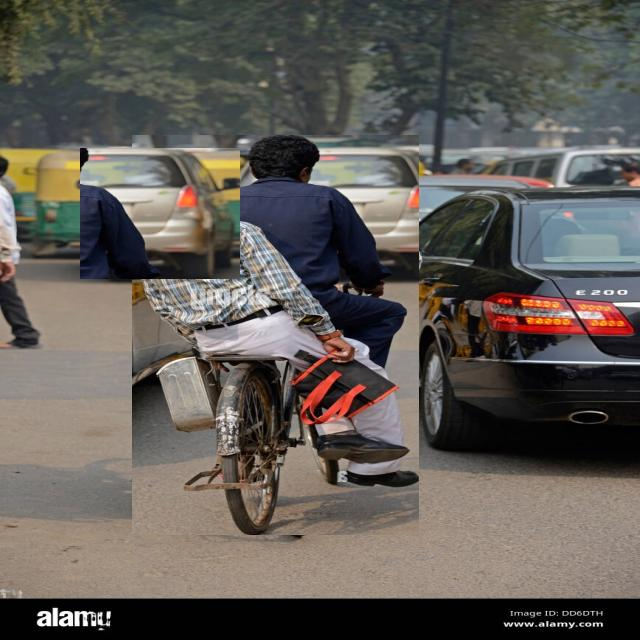bicycle: (132, 136, 419, 535)
car: (367, 186, 640, 449), (80, 149, 240, 279)
